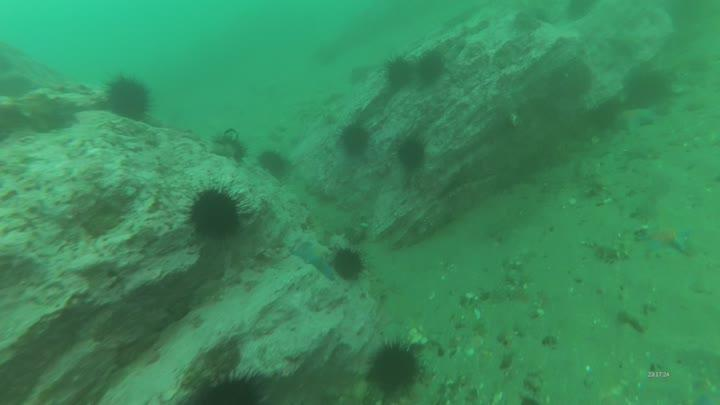urchin: (363, 333, 425, 393), (184, 185, 245, 244), (197, 369, 271, 405), (103, 72, 153, 124), (331, 246, 368, 282), (385, 52, 419, 91), (338, 123, 371, 157), (393, 135, 427, 167), (258, 147, 289, 178), (416, 49, 444, 81)
